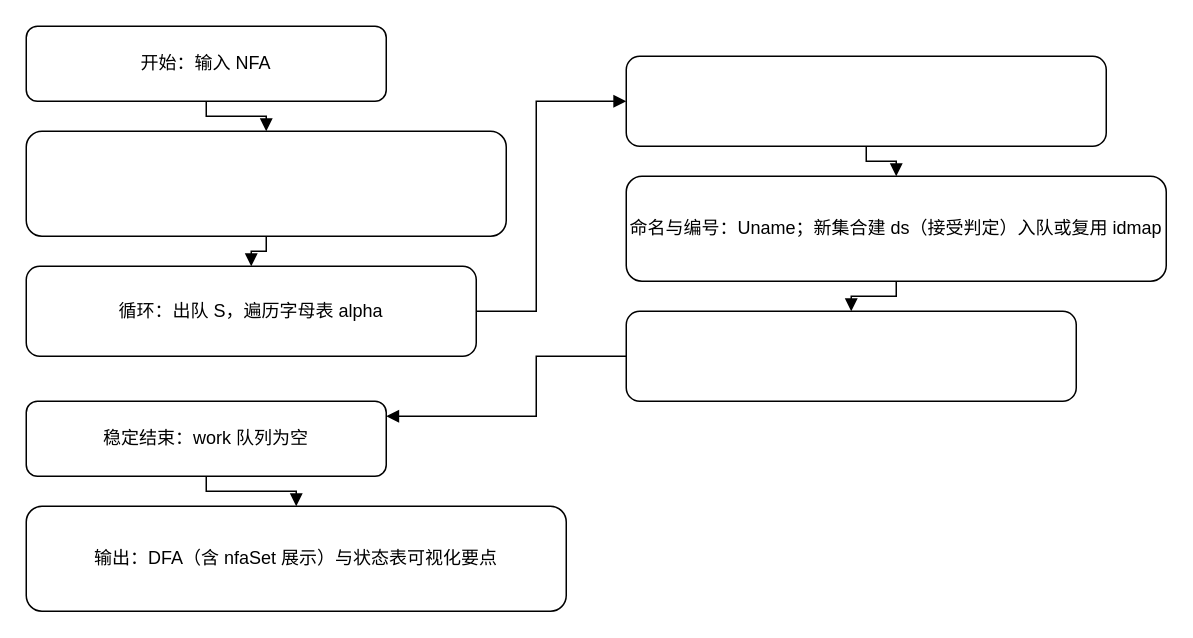
Some shapes in this 1193 by 638 pixel diagram are drawn without their labels. The box of each missing label's shape, as (x1, y1, x2, y2) in pixels:
初始化：startSet→ε-闭包命名；建 d0（接受判定）；入队 work；nextId++: (25, 130, 506, 236)
计算 U：U = ε-闭包(move(nfa,S,a))（空则跳过）: (625, 55, 1106, 146)
记录转移：d.states[sid].trans[a] = uid: (625, 310, 1076, 401)
